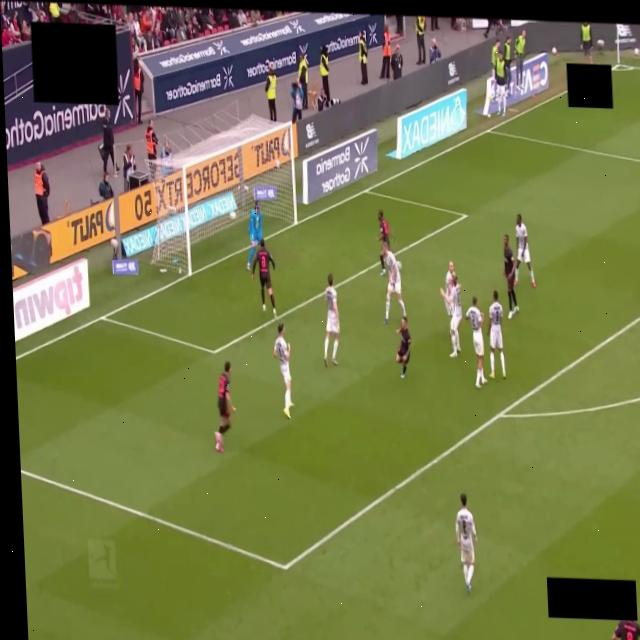ball: (230, 211, 237, 220)
player: (455, 494, 475, 593), (251, 239, 276, 318), (381, 242, 405, 324), (464, 297, 485, 388), (273, 323, 293, 418), (214, 362, 235, 452), (440, 275, 461, 357), (487, 290, 505, 378), (514, 214, 535, 287), (323, 274, 339, 366), (503, 235, 518, 319), (246, 201, 262, 270), (494, 50, 507, 116), (396, 317, 410, 378), (611, 621, 639, 639), (377, 211, 390, 248), (445, 262, 455, 287)
